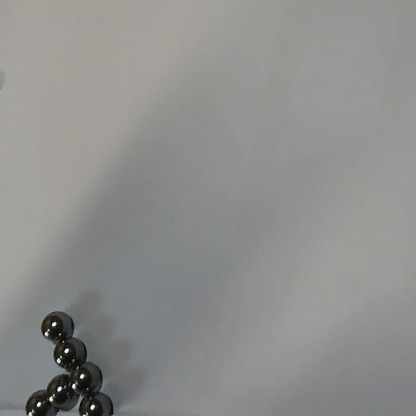ironball: (49, 337, 90, 369), (64, 363, 104, 393), (39, 308, 75, 340), (48, 375, 78, 411), (23, 387, 59, 414), (76, 389, 113, 414)
